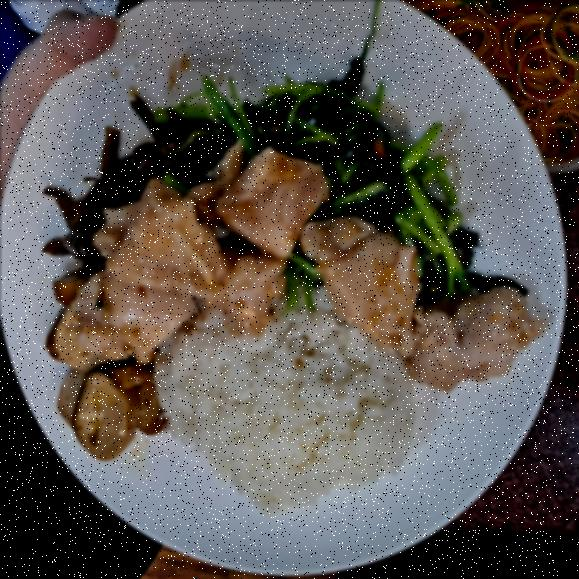big fried chicken leg: (5, 0, 566, 574)
big herbal chicken leg: (152, 296, 416, 518)
braised fish fillet: (238, 76, 452, 234), (42, 97, 193, 238), (58, 350, 155, 454)
braised pork: (57, 199, 538, 356)
